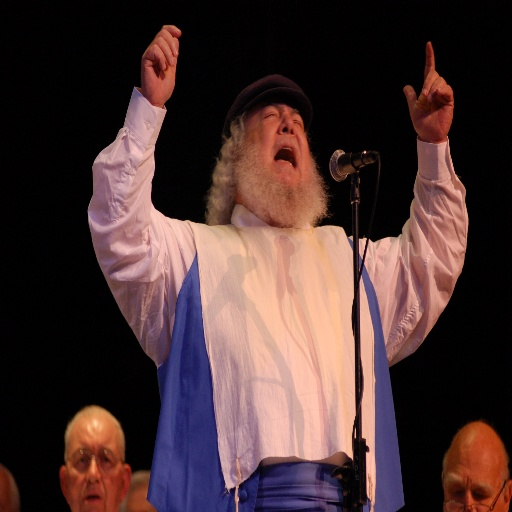hand: (408, 41, 465, 156), (141, 24, 181, 106)
